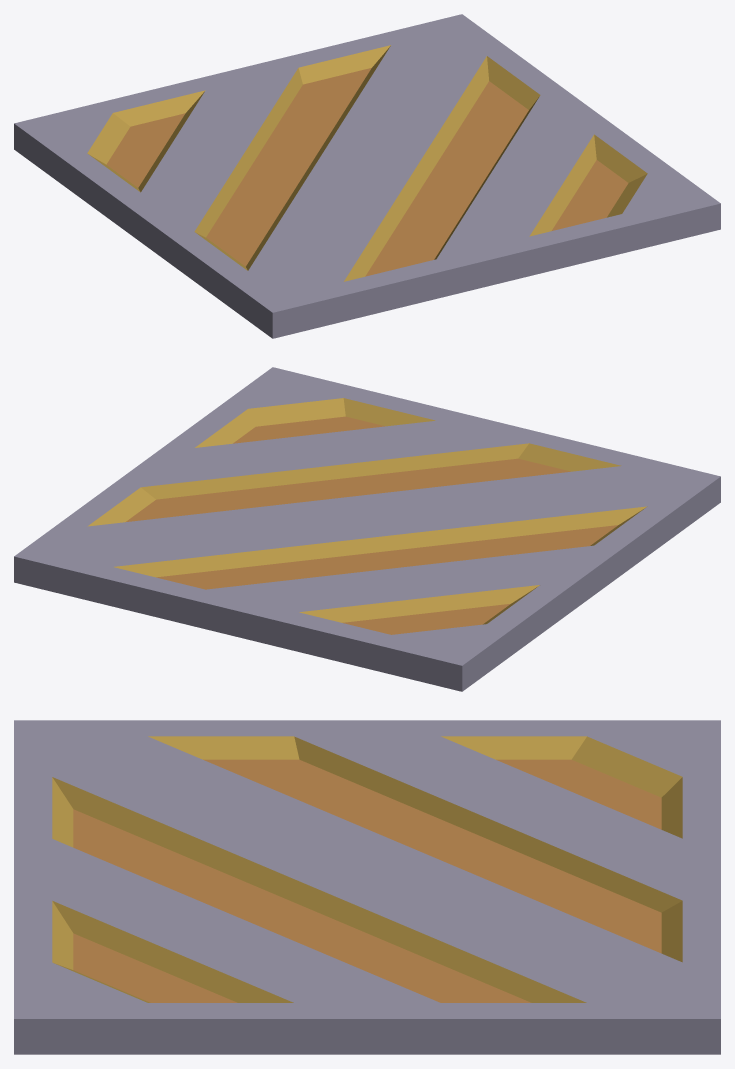
The model's file is TileZone.fbx.
3 views of the same model, one above another, from view 1: azimuth 30°, elevation 25°; view 2: azimuth 150°, elevation 25°; view 3: azimuth 270°, elevation 25° (orthographic). The views are drawn at different scales.
Parts seen in each view (by area): view 1: TileZone; view 2: TileZone; view 3: TileZone.
Boxes of the visible parts, x1,y1,x2,y2 form: TileZone: (14,14,720,338); TileZone: (14,367,720,691); TileZone: (14,720,720,1054).
Bounding box in the file's own units: 100 × 5.55 × 100.
